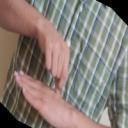hand: (13, 69, 85, 128), (33, 21, 69, 95)
